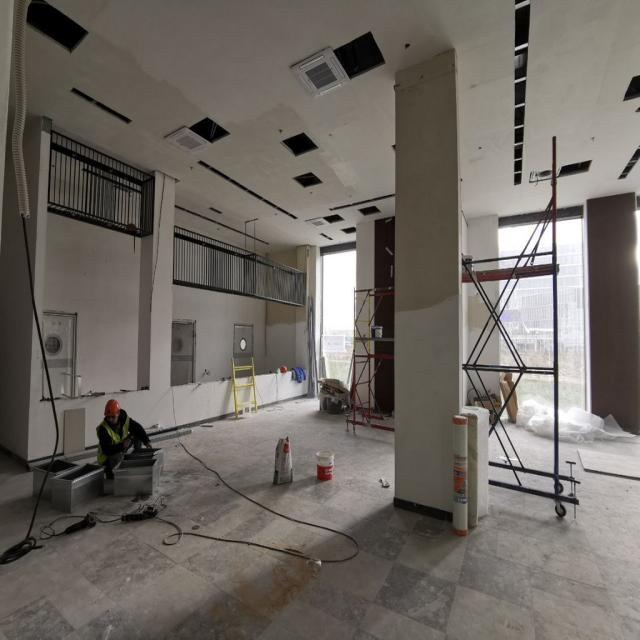Helmet: (105, 400, 123, 428)
